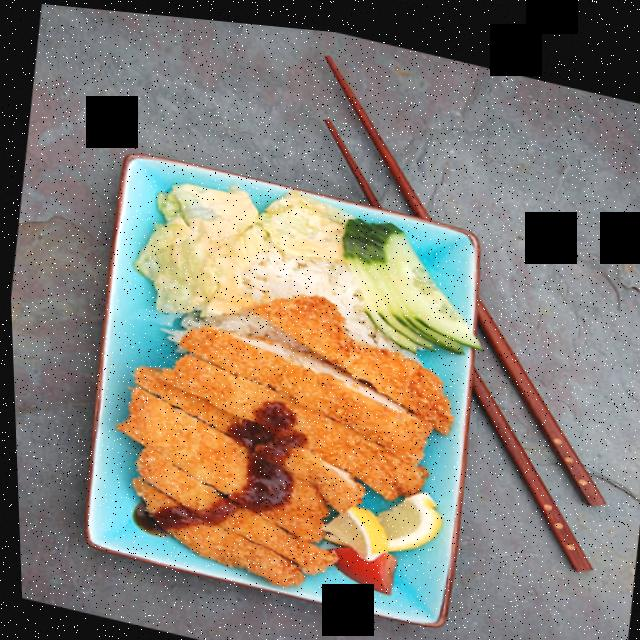Frango: (91, 246, 466, 615)
